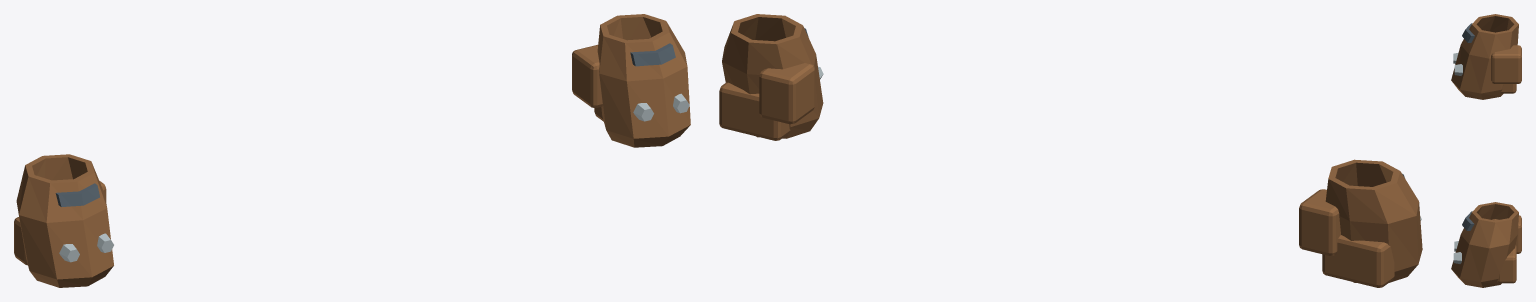
Rendered from studded_hands-male.glb.
3 views of the same model, side by side, from view 1: azimuth 30°, elevation 25°; view 2: azimuth 150°, elevation 25°; view 3: azimuth 270°, elevation 25° (orthographic). The views are drawn at different scales.
Parts seen in each view (by area): view 1: Block hand armor -1, Block hand armor 1, Block thumb armor 1, Glove turned wrist seam 1, Glove turned wrist seam -1; view 2: Block hand armor -1, Block hand armor 1, Block thumb armor 1, Block hand curl armor -1, Block hand curl armor 1, Block thumb armor -1; view 3: Block hand armor 1, Block hand armor -1, Block thumb armor -1, Block hand curl armor 1, Block thumb armor 1, Block hand curl armor -1, Glove turned wrist seam -1, Glove turned wrist seam 1, Set rivet Block hand armor -1 1, Set rivet Block hand armor 1 1.
Part boxes in pixels (x1,y1,x2,y2): Block hand armor -1: [16, 154, 113, 287]; Block hand armor 1: [597, 14, 690, 147]; Block thumb armor 1: [572, 44, 602, 107]; Glove turned wrist seam 1: [630, 43, 675, 66]; Glove turned wrist seam -1: [55, 183, 99, 207]; Block hand armor -1: [1325, 159, 1422, 282]; Block hand armor 1: [722, 14, 823, 138]; Block thumb armor 1: [759, 63, 814, 124]; Block hand curl armor -1: [1322, 235, 1394, 287]; Block hand curl armor 1: [719, 82, 790, 140]; Block thumb armor -1: [1299, 189, 1340, 255]; Block hand armor 1: [1451, 202, 1518, 287]; Block hand armor -1: [1451, 14, 1518, 99]; Block thumb armor -1: [1491, 45, 1521, 83]; Block hand curl armor 1: [1497, 245, 1516, 283]; Block thumb armor 1: [1492, 215, 1521, 253]; Block hand curl armor -1: [1500, 84, 1516, 93]; Glove turned wrist seam -1: [1462, 23, 1474, 42]; Glove turned wrist seam 1: [1462, 211, 1474, 230]; Set rivet Block hand armor -1 1: [1454, 64, 1462, 75]; Set rivet Block hand armor 1 1: [1453, 252, 1461, 263].
Bounding box in the file's own units: 3.73 × 0.52 × 0.5125.
